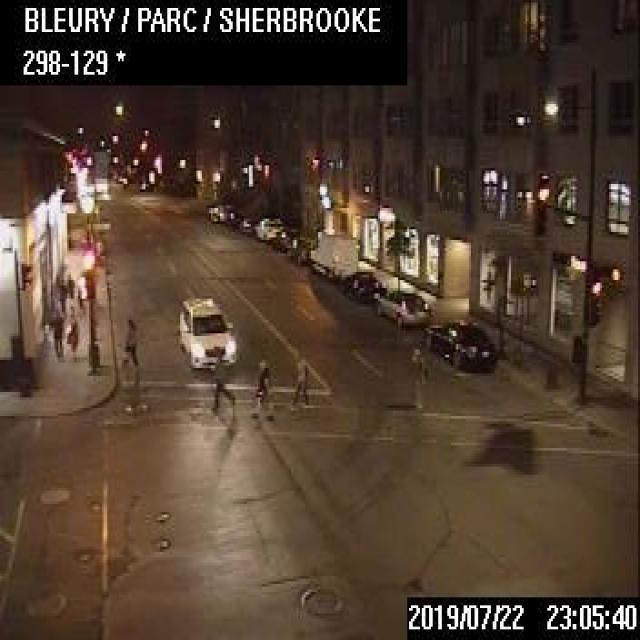pedestrian: (247, 357, 274, 418), (209, 344, 233, 409), (288, 349, 310, 411), (405, 342, 422, 411), (120, 314, 137, 370), (49, 306, 62, 356), (64, 305, 76, 359), (65, 272, 73, 304), (56, 278, 64, 309)
vehicle: (178, 294, 236, 368), (428, 321, 495, 369), (309, 230, 356, 276), (374, 289, 429, 326), (343, 270, 382, 300), (252, 216, 282, 240), (205, 200, 234, 222), (290, 236, 314, 262), (273, 228, 295, 250), (238, 213, 255, 233)
